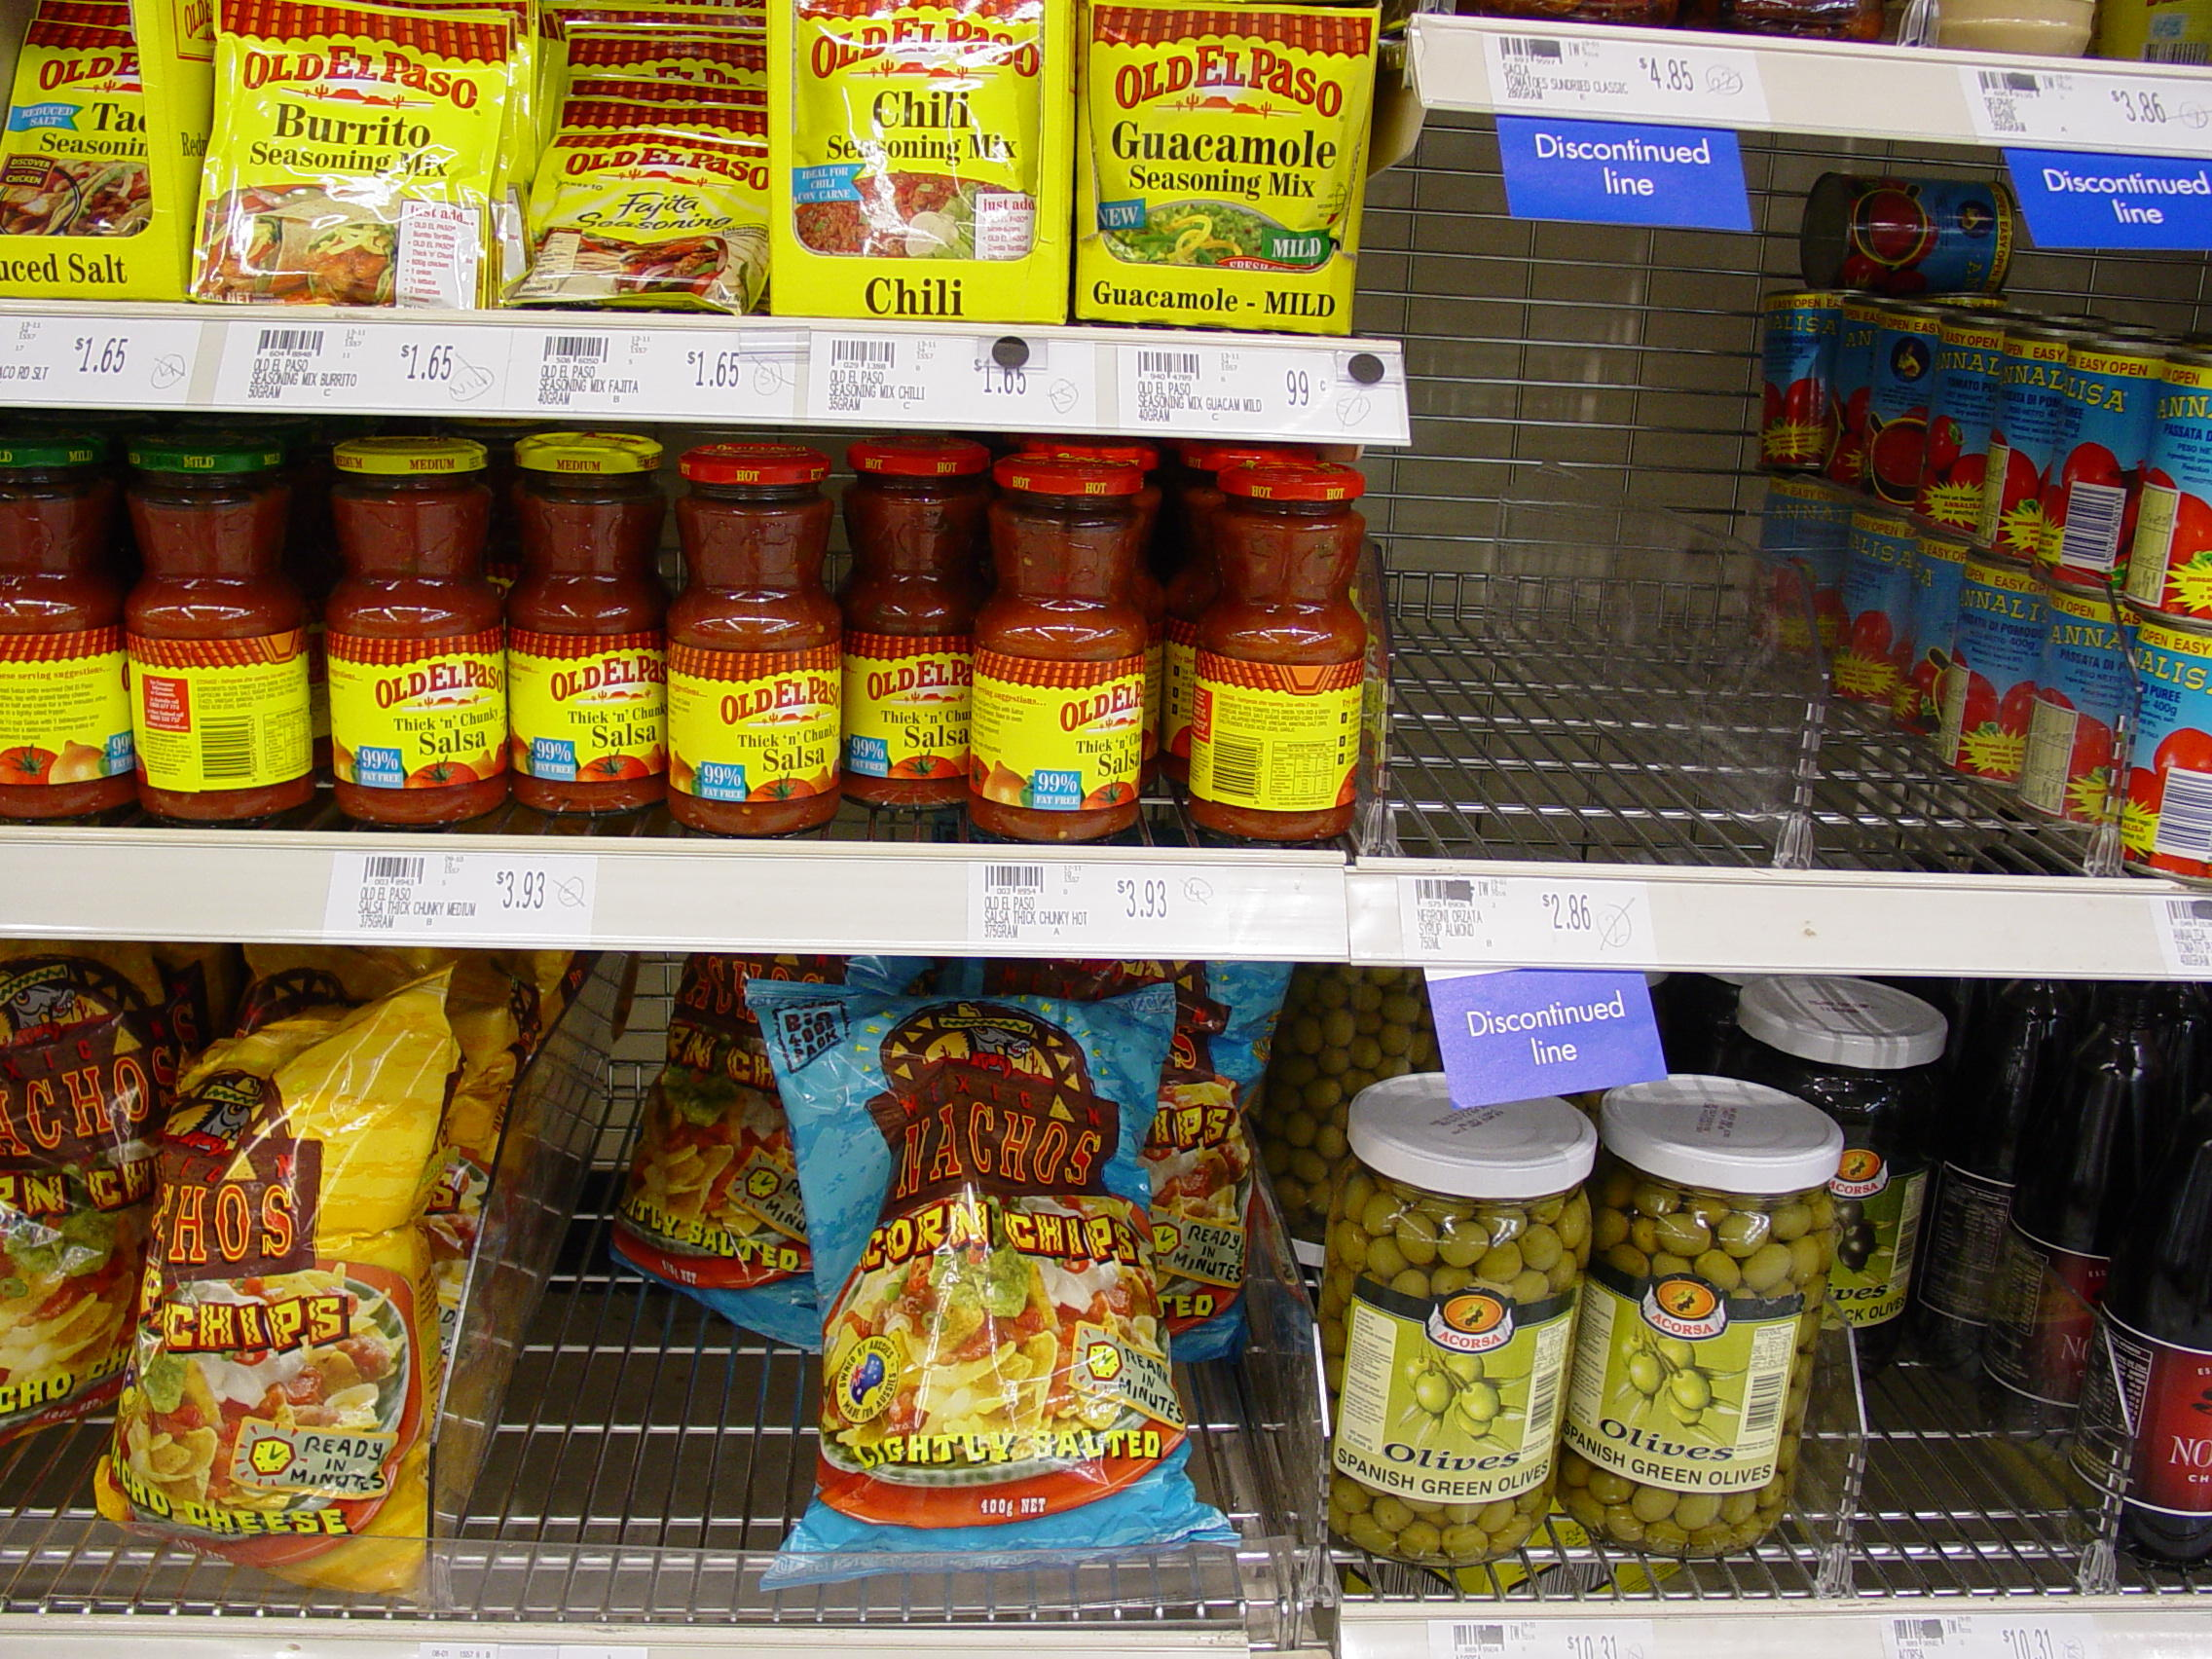Misplacement: (458, 972, 1268, 1608), (516, 10, 772, 310)
Out-of-stock: (1378, 162, 2123, 871)
